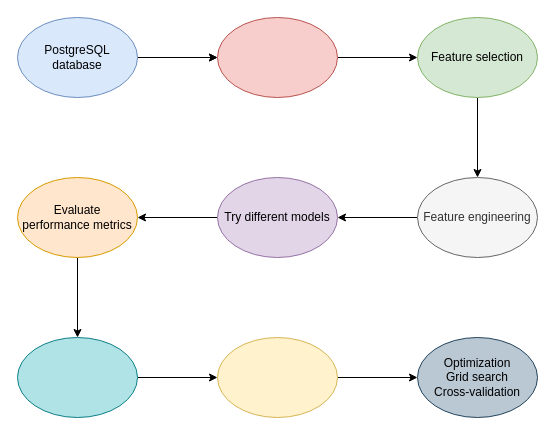
Some shapes in this 555 by 435 pixel diagram are drawn without their labels. Here are the shapes that lost their labels. From the top down, the box of each, then its label:
(216, 16, 338, 98): To Pandas
(16, 336, 138, 418): Improve feature engineering
(216, 336, 338, 418): Increase model complexity
